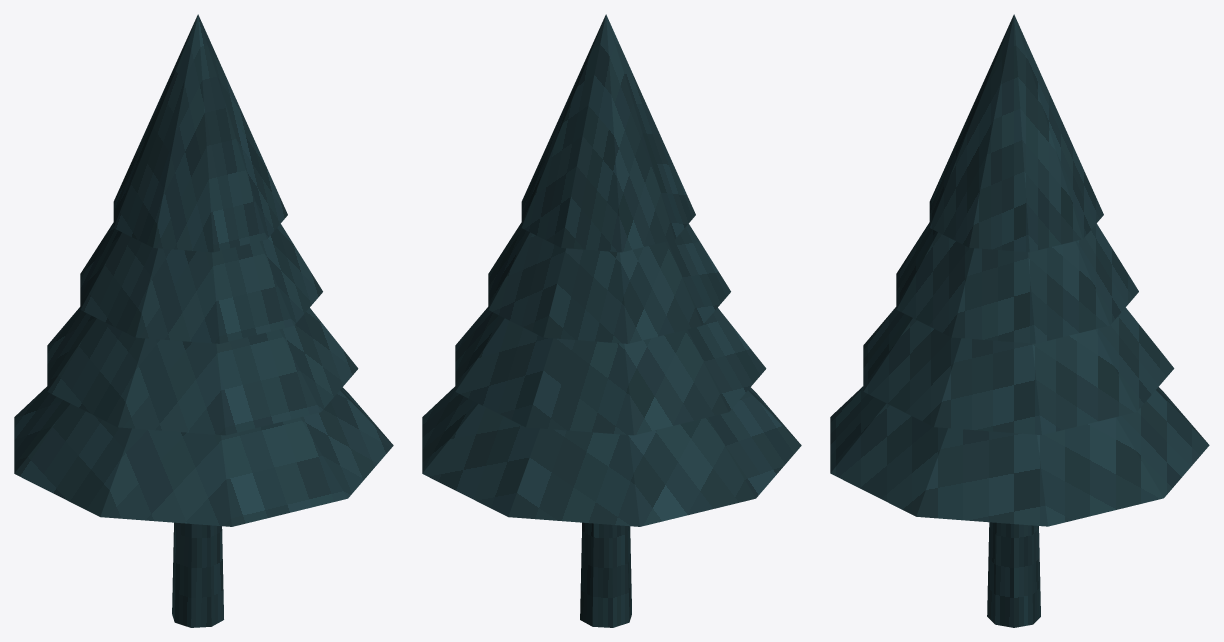
The model's file is pine_21.glb.
3 views of the same model, side by side, from view 1: azimuth 30°, elevation 25°; view 2: azimuth 150°, elevation 25°; view 3: azimuth 270°, elevation 25° (orthographic).
Parts seen in each view (by area): view 1: Needles, Needles.001, Needles.003, Needles.002, Trunk; view 2: Needles, Needles.001, Needles.003, Needles.002, Trunk; view 3: Needles, Needles.001, Needles.003, Needles.002, Trunk.
Boxes of the visible parts, left/top/right/bottom form: Needles: left=14, top=386, right=393, bottom=526; Needles.001: left=47, top=307, right=358, bottom=435; Needles.003: left=113, top=14, right=287, bottom=252; Needles.002: left=80, top=222, right=322, bottom=343; Trunk: left=172, top=522, right=223, bottom=627; Needles: left=422, top=386, right=801, bottom=526; Needles.001: left=455, top=307, right=766, bottom=435; Needles.003: left=521, top=14, right=695, bottom=252; Needles.002: left=488, top=222, right=730, bottom=343; Trunk: left=580, top=522, right=631, bottom=627; Needles: left=830, top=386, right=1209, bottom=526; Needles.001: left=863, top=307, right=1174, bottom=435; Needles.003: left=929, top=14, right=1103, bottom=252; Needles.002: left=896, top=222, right=1138, bottom=343; Trunk: left=987, top=522, right=1040, bottom=627.
Size of the model in its own units: 2.86 by 4.93 by 2.81.
Materials: 1 (1 with a texture image).
